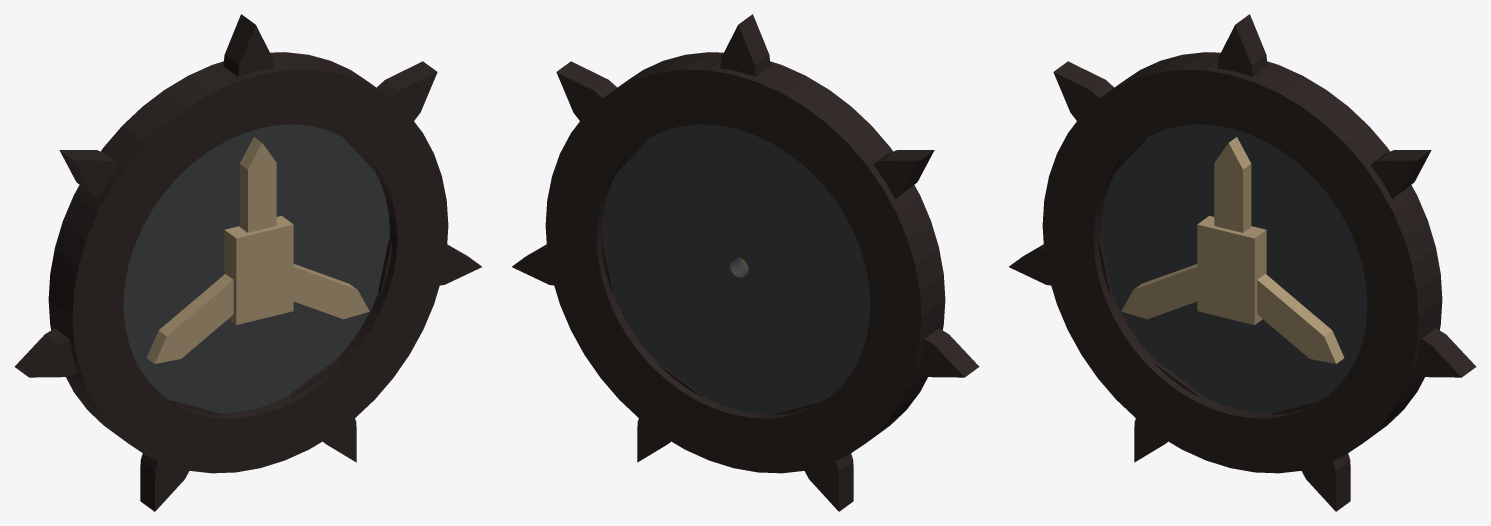
The model's file is B3_FunerarySeal.obj.
3 views of the same model, side by side, from view 1: azimuth 30°, elevation 25°; view 2: azimuth 150°, elevation 25°; view 3: azimuth 330°, elevation 25° (orthographic).
Parts seen in each view (by area): view 1: B3_FunerarySeal; view 2: B3_FunerarySeal; view 3: B3_FunerarySeal.
Boxes of the visible parts, bbox=[...] form: B3_FunerarySeal: bbox=[14, 14, 481, 511]; B3_FunerarySeal: bbox=[512, 14, 979, 511]; B3_FunerarySeal: bbox=[1009, 14, 1476, 511].
Size of the model in its own units: 1.42 by 1.39 by 0.155.
